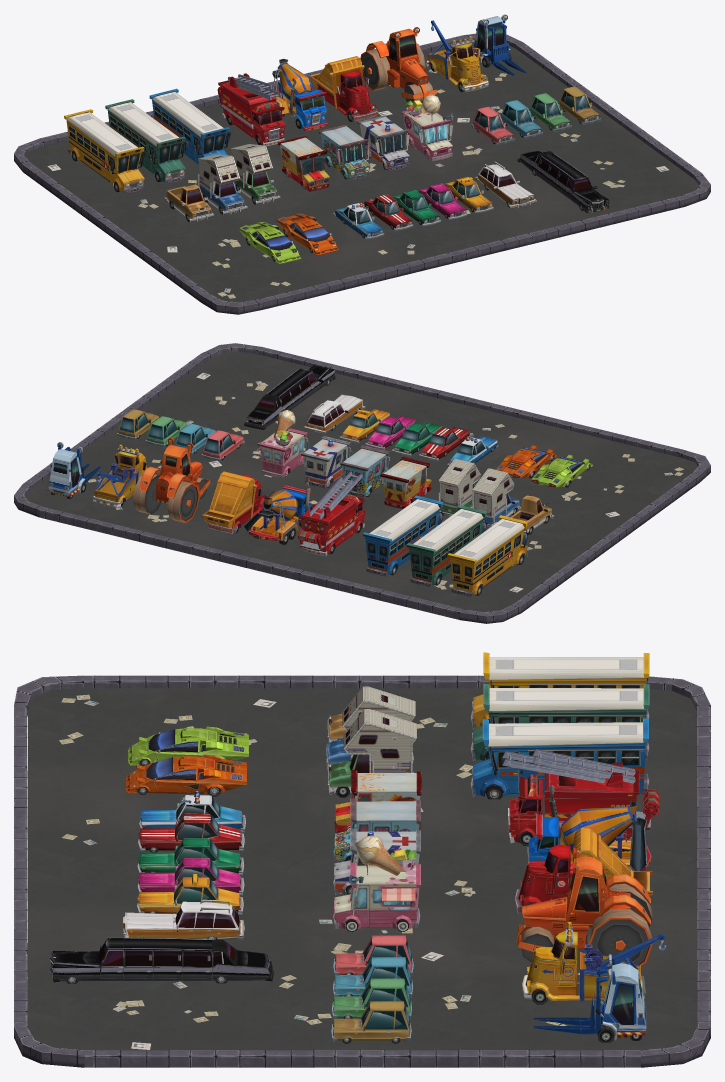
The model's file is Stylized_Urban_Vehicles_Set.glb.
3 renders of one model, top to bottom at view 1: azimuth 30°, elevation 25°; view 2: azimuth 150°, elevation 25°; view 3: azimuth 270°, elevation 25°, orthographic. The views are drawn at different scales.
Parts seen in each view (by area): view 1: Plane005_Material #808_0, FireTruck009_atlas2_0, Bus_School004_UrbanVehicleAtlas_0, Box887_Material #709_0; view 2: Plane005_Material #808_0, FireTruck009_atlas2_0, Bus_School004_UrbanVehicleAtlas_0, Box887_Material #709_0; view 3: Plane005_Material #808_0, FireTruck009_atlas2_0, Bus_School004_UrbanVehicleAtlas_0, Box887_Material #709_0.
Boxes of the visible parts, left/top/right/bottom form: Plane005_Material #808_0: left=25, top=42, right=699, bottom=302; FireTruck009_atlas2_0: left=164, top=14, right=609, bottom=263; Bus_School004_UrbanVehicleAtlas_0: left=64, top=86, right=600, bottom=239; Box887_Material #709_0: left=14, top=33, right=710, bottom=314; Plane005_Material #808_0: left=25, top=351, right=697, bottom=611; FireTruck009_atlas2_0: left=47, top=365, right=592, bottom=556; Bus_School004_UrbanVehicleAtlas_0: left=117, top=409, right=528, bottom=596; Box887_Material #709_0: left=14, top=343, right=710, bottom=623; Plane005_Material #808_0: left=28, top=688, right=697, bottom=1050; FireTruck009_atlas2_0: left=50, top=686, right=666, bottom=1042; Bus_School004_UrbanVehicleAtlas_0: left=137, top=652, right=649, bottom=1043; Box887_Material #709_0: left=14, top=675, right=710, bottom=1067.
Bounding box in the file's own units: 1637 × 216 × 1267.
5 materials, 5 textured.
